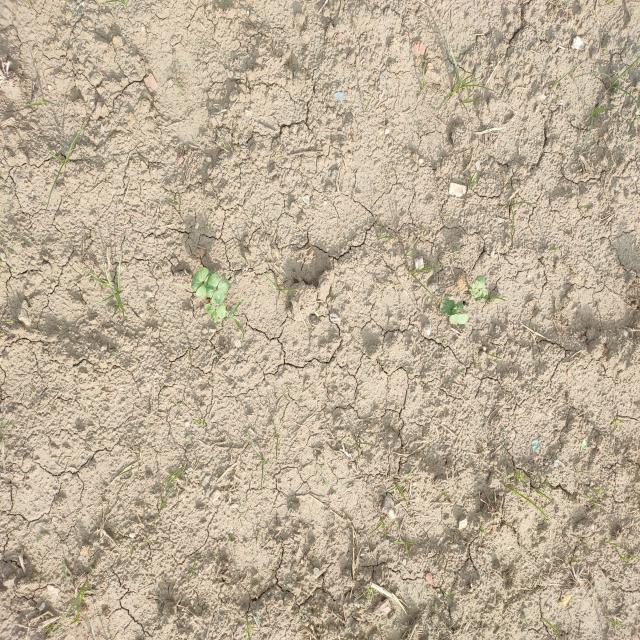seedling: (191, 266, 210, 292), (212, 278, 229, 305), (196, 274, 212, 299), (206, 274, 219, 298), (470, 275, 485, 295), (205, 304, 218, 322), (212, 302, 226, 318), (449, 313, 468, 324), (474, 288, 488, 302), (440, 296, 449, 315), (452, 302, 463, 314), (447, 300, 455, 316)
